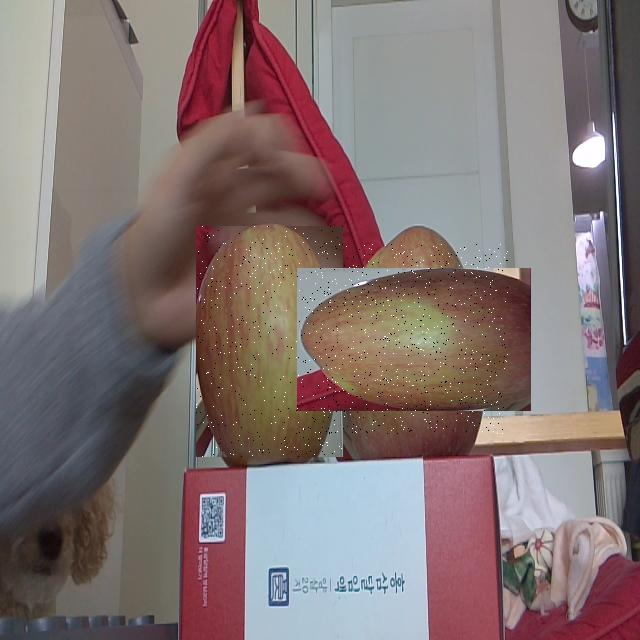apple: (320, 244, 508, 434), (196, 226, 343, 457)
